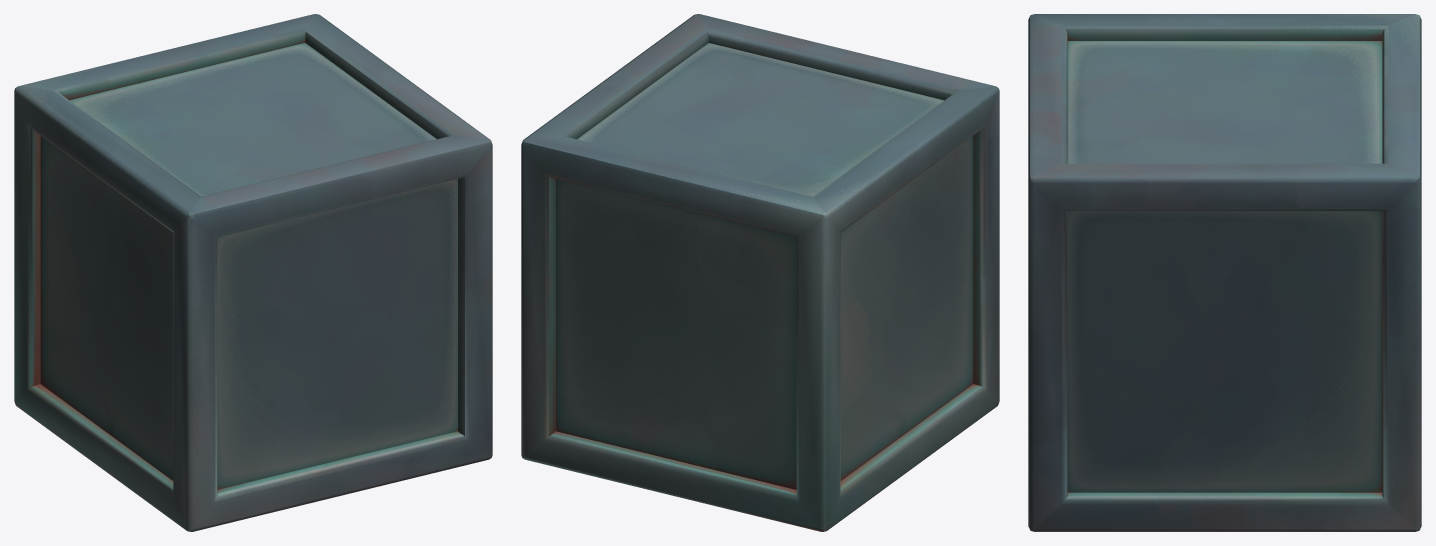
File: pip2_crate_2_bm.fbx
3 renders of one model, left to right at view 1: azimuth 30°, elevation 25°; view 2: azimuth 150°, elevation 25°; view 3: azimuth 270°, elevation 25°, orthographic. The views are drawn at different scales.
Parts seen in each view (by area): view 1: Box_0.5m; view 2: Box_0.5m; view 3: Box_0.5m.
Part boxes in pixels (box(x1,y1,x2,y2)): Box_0.5m: box(14, 14, 492, 531); Box_0.5m: box(521, 14, 999, 531); Box_0.5m: box(1028, 14, 1421, 531).
Bounding box in the file's own units: 203 × 203 × 203.
Materials: 1 (1 with a texture image).
